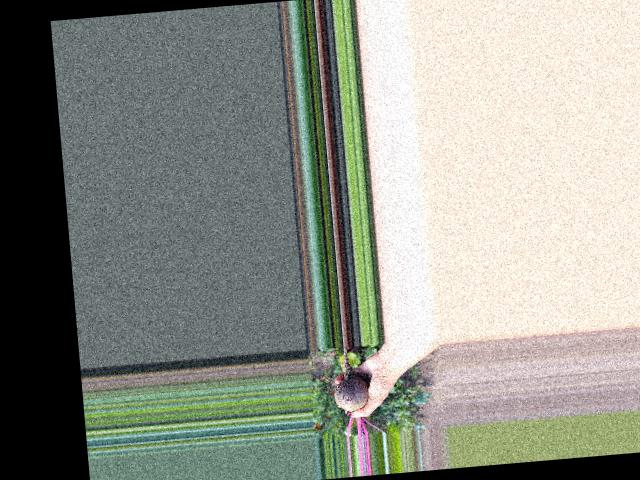beet: (316, 342, 386, 438)
